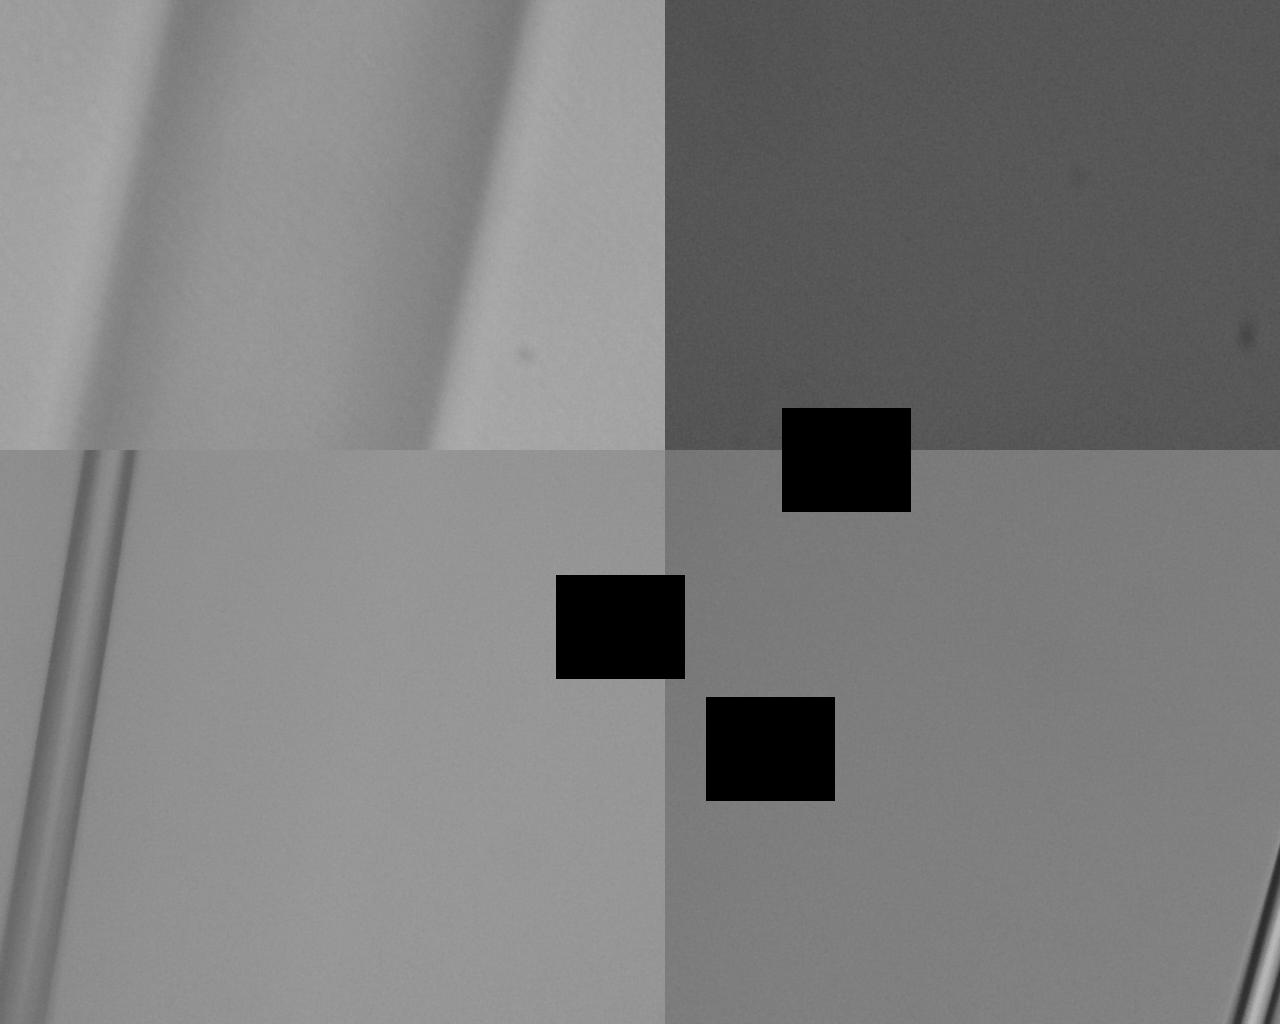fiber: (0, 364, 938, 419), (1148, 0, 1243, 212)
